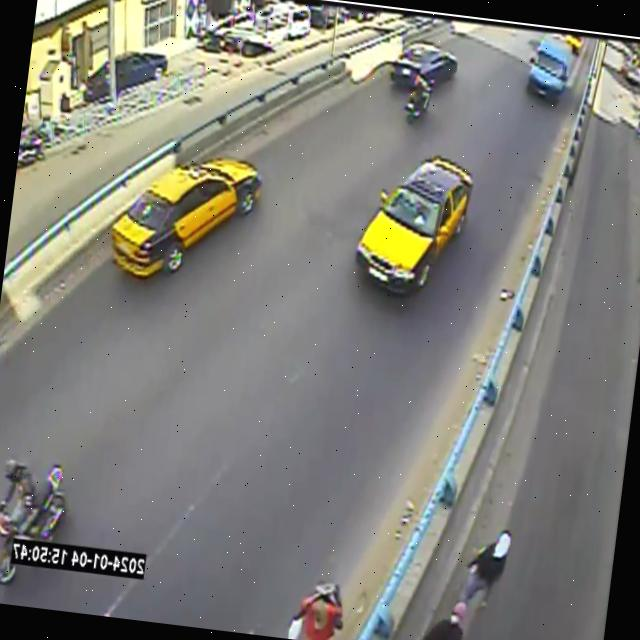car: (112, 157, 262, 276), (357, 155, 474, 293), (390, 42, 458, 88), (527, 36, 573, 102)
